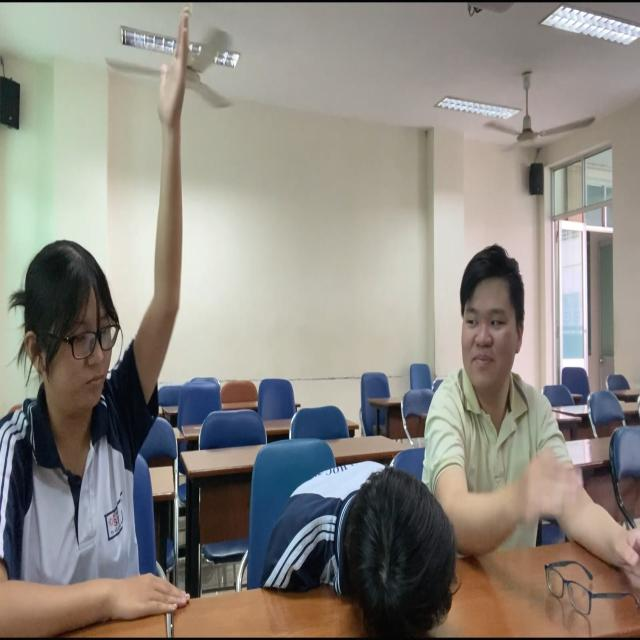raise_hand: (1, 1, 203, 628)
sleep: (260, 461, 456, 640)
